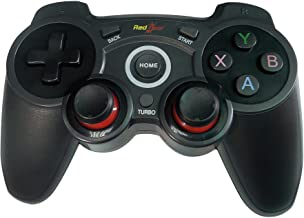gamingconsole: (3, 1, 304, 217)
